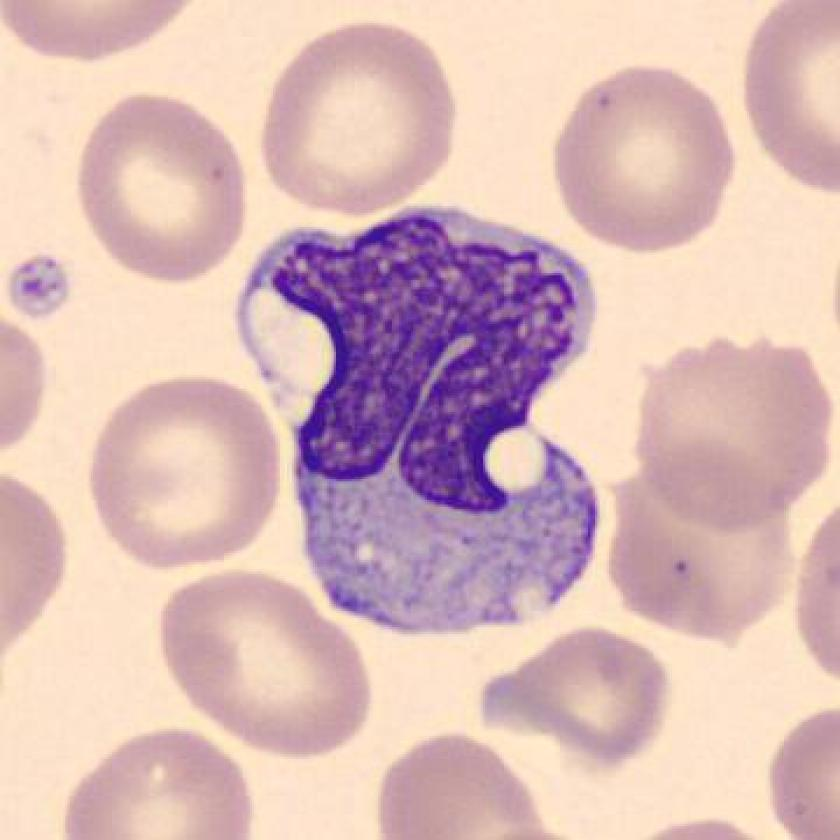monocyte: (227, 182, 617, 647)
